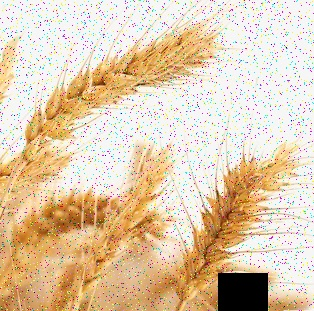wheat: (14, 10, 227, 171), (176, 140, 298, 311)
